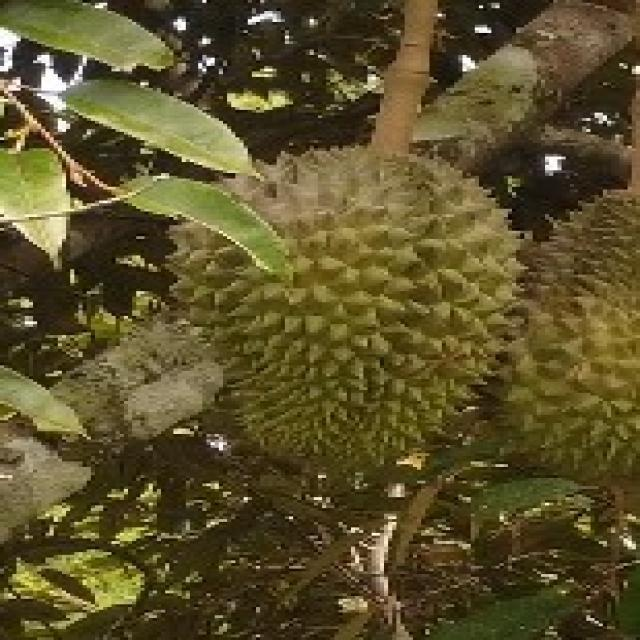immature: (167, 134, 527, 468)
